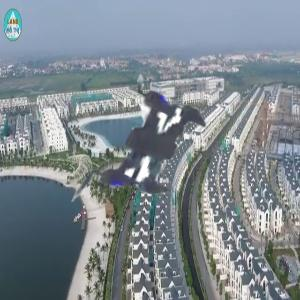drone: (3, 1, 284, 282)
